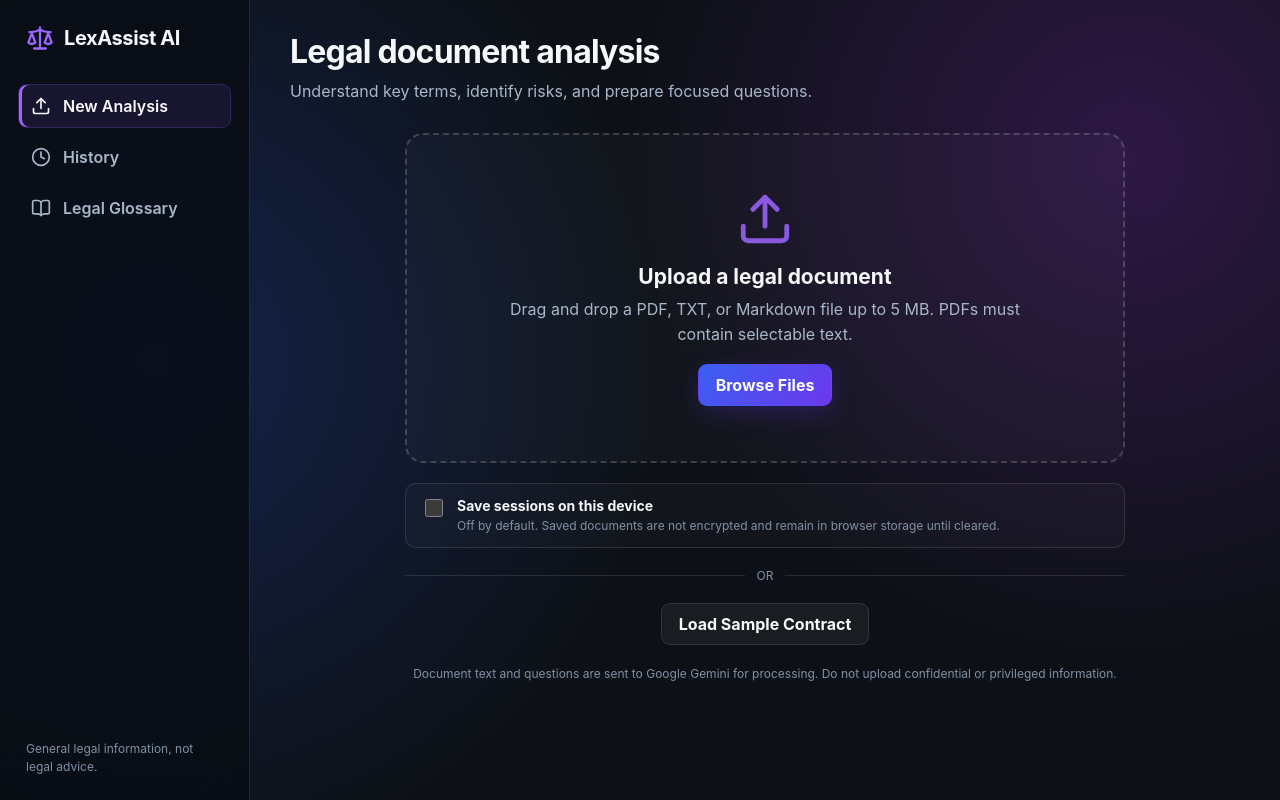
App workflows › allows chat directly after document upload
Click the button "Load Sample Contract". click: (765, 624)
box: [661,603,869,645]
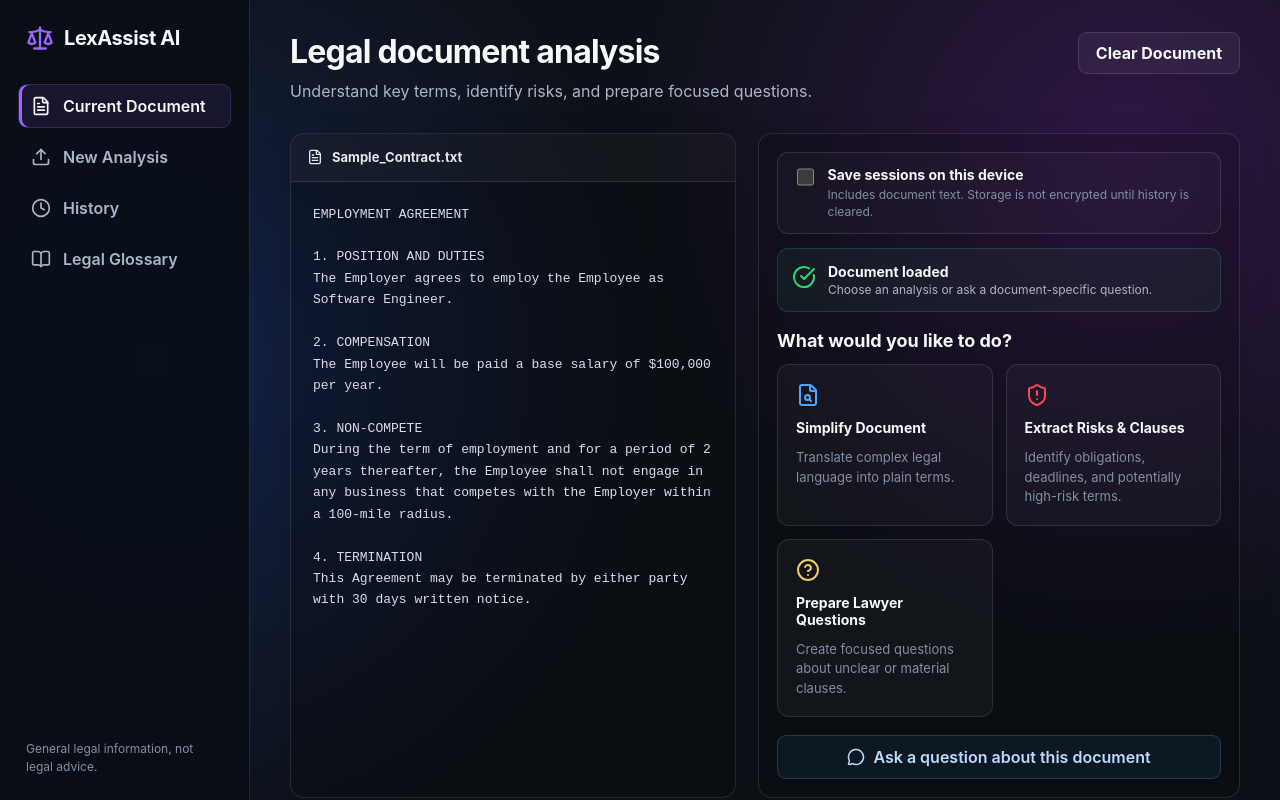
Click the button "Ask a question about this document". click: (999, 757)
box: [777,735,1221,779]
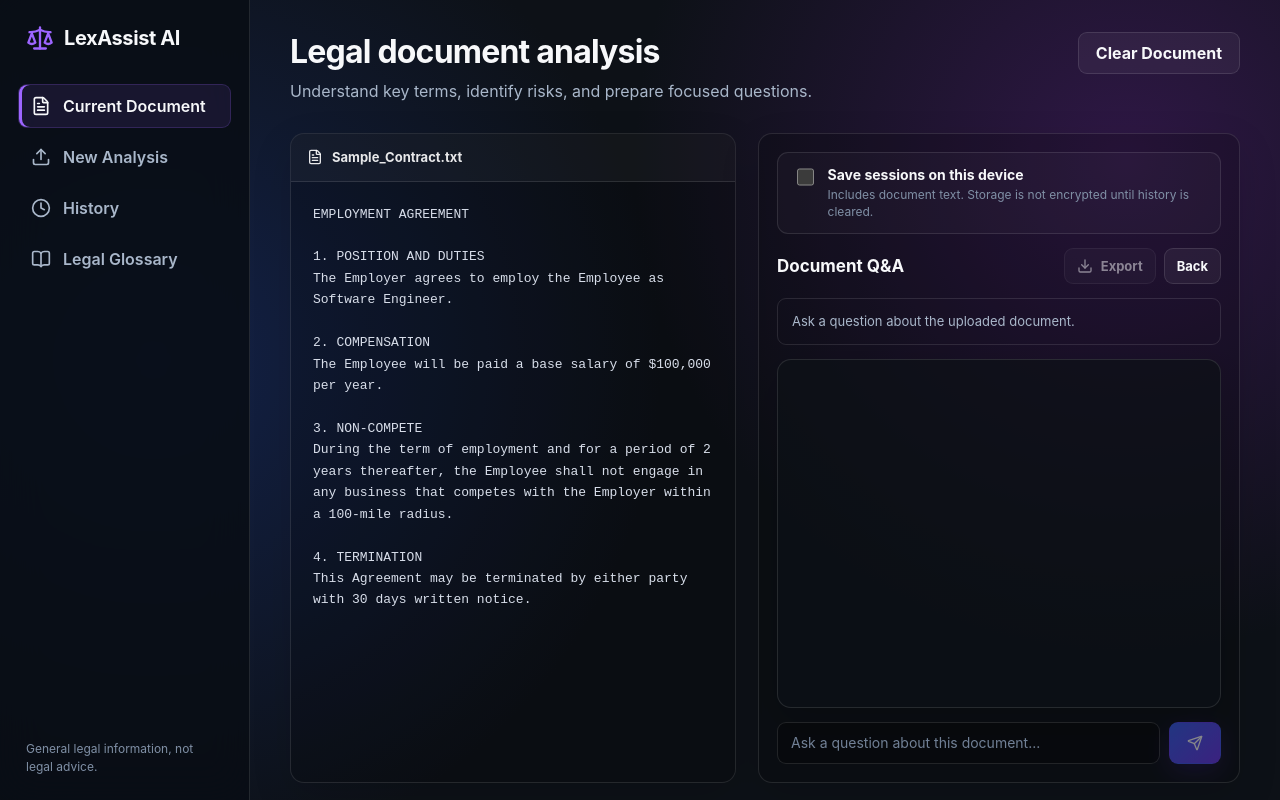
Type "What is my role?" into the field labelled "Ask a question about this document...". click: (968, 743)
box: [777,722,1160,764]
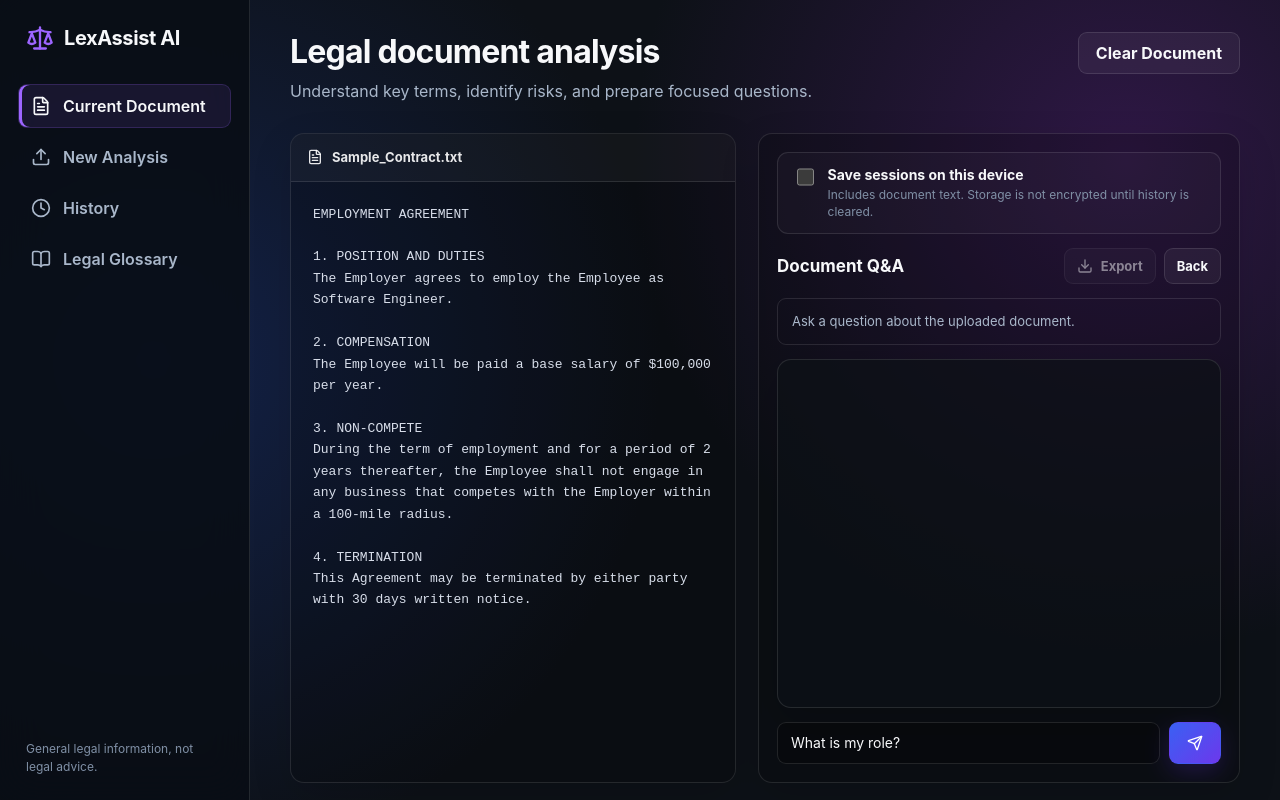
Submit the form named "ask a question about this document", box [777,722,1221,764]
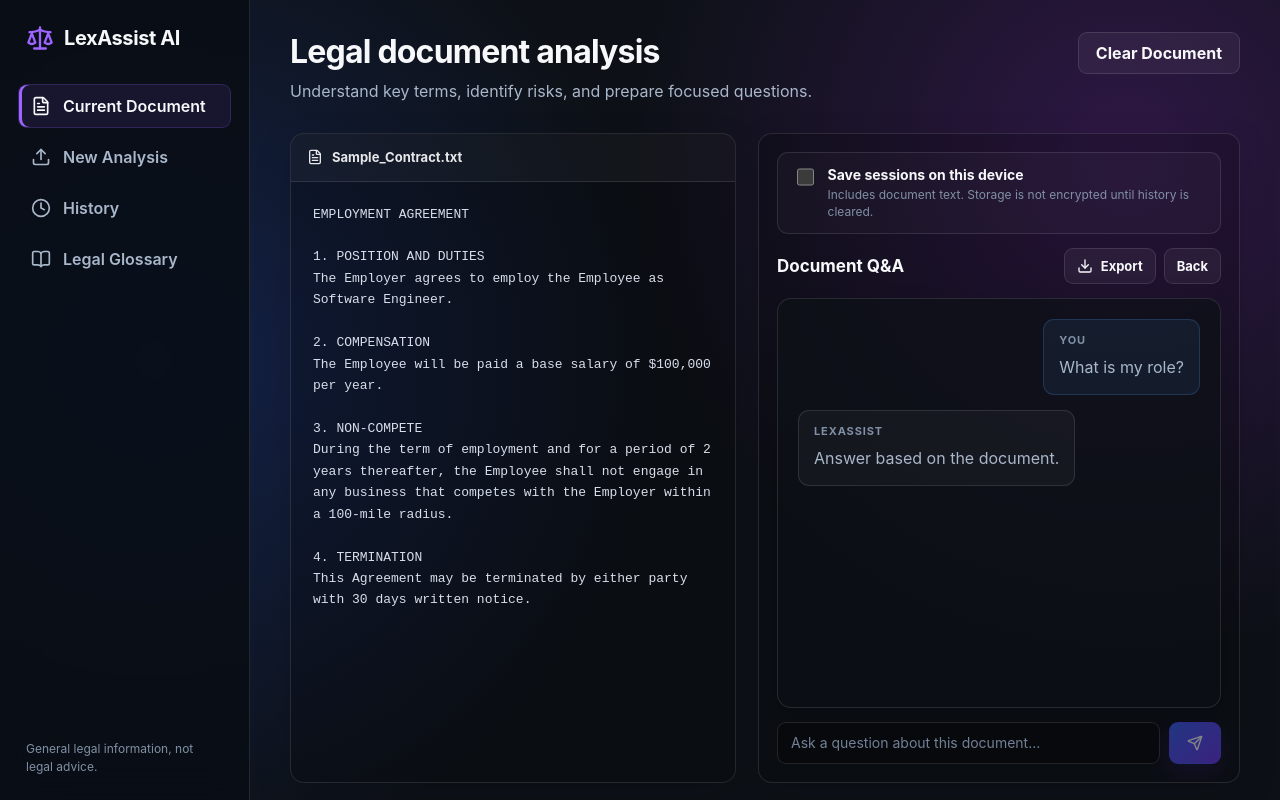
Result: the text "Answer based on the document." is shown at [814,446,1059,472]
